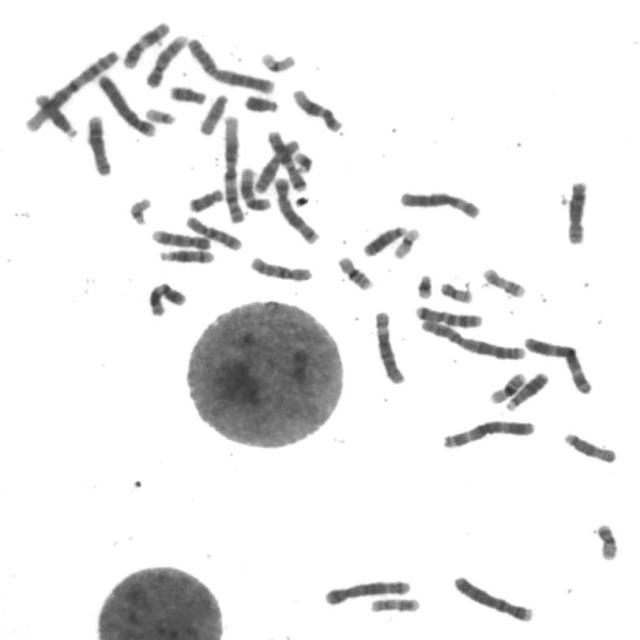A1: (19, 44, 121, 134), (218, 110, 247, 224)
A2: (181, 32, 276, 95), (416, 314, 530, 361)
A3: (518, 330, 595, 396), (437, 414, 537, 450)
B4: (448, 570, 536, 624), (92, 69, 158, 139)
B5: (270, 172, 322, 246), (320, 574, 412, 606)
C10: (180, 211, 243, 252), (244, 251, 314, 283)
C11: (117, 16, 171, 70), (143, 277, 188, 318)
C12: (288, 83, 344, 133), (234, 162, 272, 212)
C6: (395, 185, 483, 220), (370, 306, 408, 386)
C7: (262, 125, 309, 193), (411, 300, 484, 328)
C8: (81, 110, 113, 177), (562, 175, 591, 246)
C9: (140, 29, 188, 89), (147, 224, 212, 251)
D13: (501, 367, 550, 411), (358, 220, 408, 257)
D14: (29, 88, 79, 140), (154, 244, 217, 265)
D15: (558, 427, 618, 465), (194, 89, 230, 137)
E16: (332, 251, 374, 292), (484, 368, 528, 404)
E17: (477, 262, 528, 300), (366, 592, 421, 614)
E18: (183, 184, 225, 214), (164, 80, 207, 106)
F19: (388, 223, 422, 260), (256, 46, 298, 73)
F20: (591, 518, 620, 562), (434, 276, 475, 304)
G21: (289, 146, 315, 174), (412, 268, 434, 300)
G22: (124, 192, 154, 226), (141, 103, 177, 125)
X: (250, 134, 302, 194)
Y: (240, 90, 280, 114)
